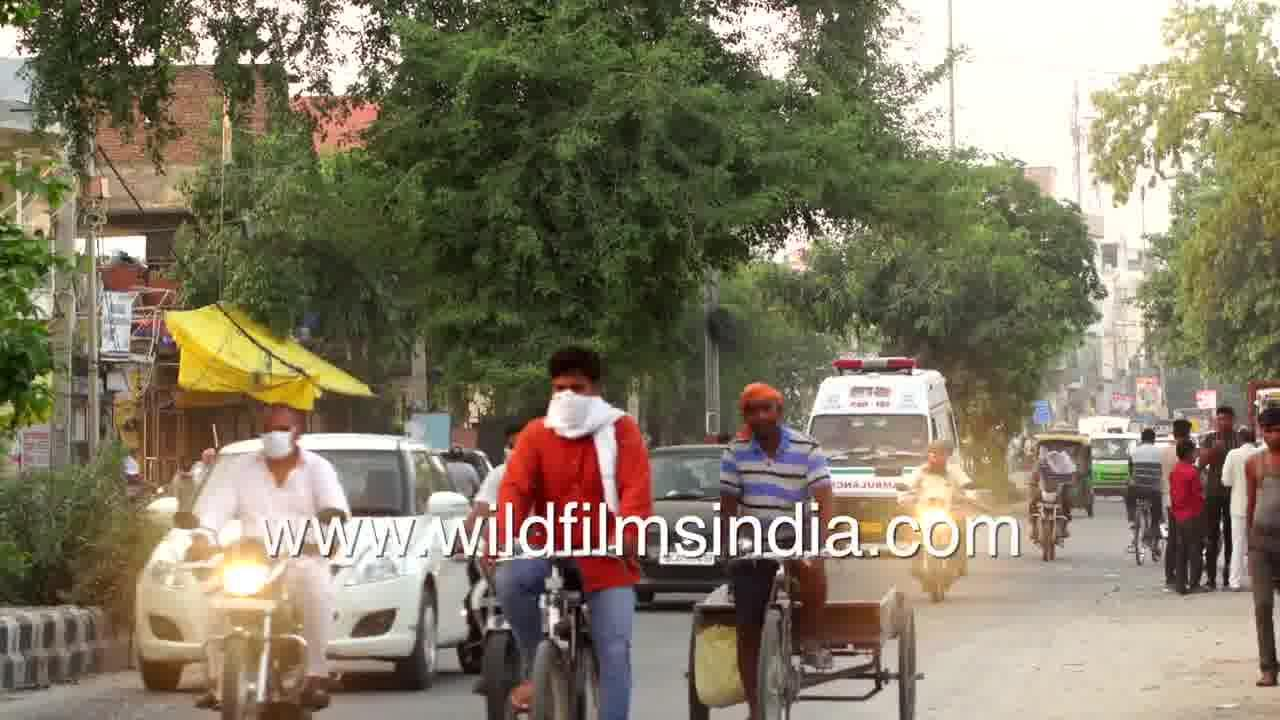AMBULANCE: (807, 349, 960, 516)
